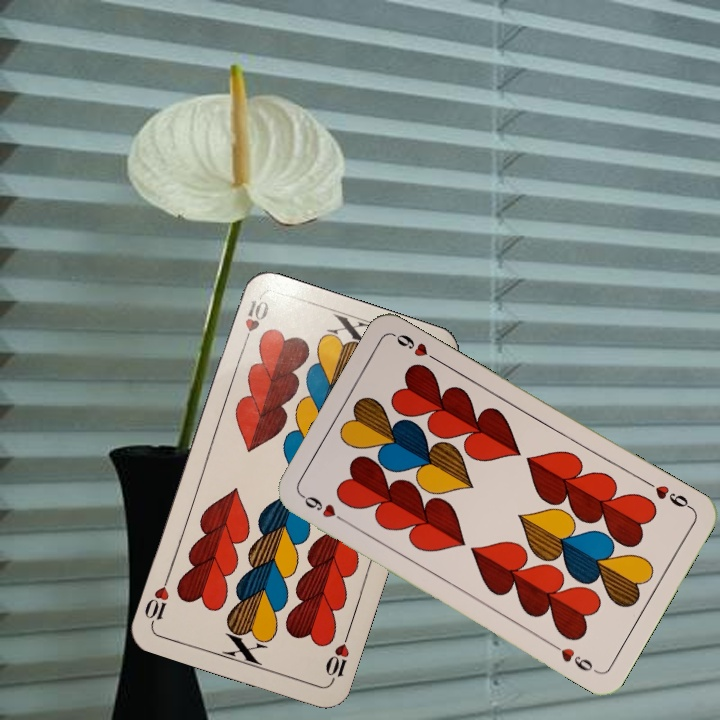H10: (238, 293, 271, 351), (321, 627, 353, 685)
H9: (298, 490, 352, 527), (641, 476, 695, 512)
